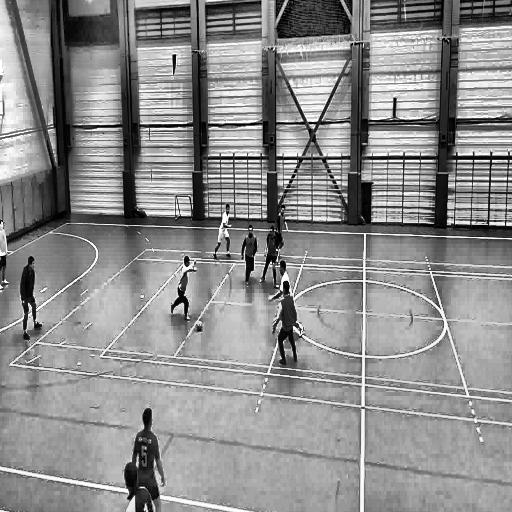ball: (196, 318, 204, 334)
player: (273, 283, 299, 368), (19, 254, 43, 341), (171, 253, 194, 320), (240, 222, 258, 287), (213, 202, 232, 262), (260, 225, 277, 285), (0, 216, 10, 293), (277, 205, 290, 254), (277, 260, 292, 281)
